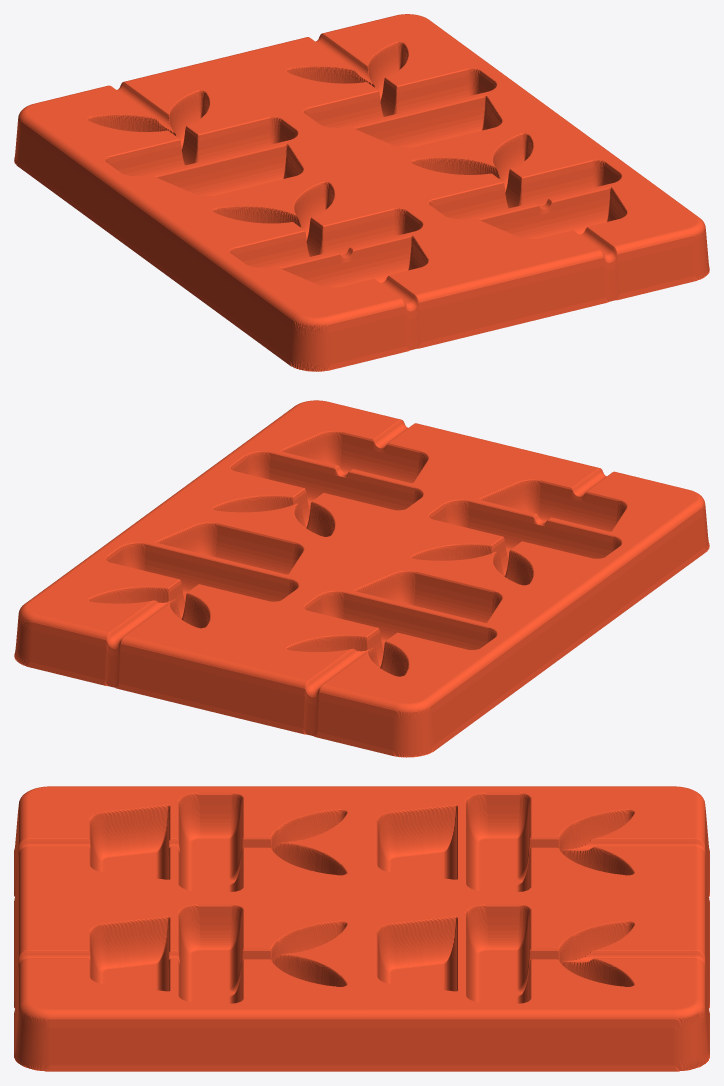
The model's file is mold.glb.
3 renders of one model, top to bottom at view 1: azimuth 30°, elevation 25°; view 2: azimuth 150°, elevation 25°; view 3: azimuth 270°, elevation 25°, orthographic. The views are drawn at different scales.
Parts seen in each view (by area): view 1: geometry_0; view 2: geometry_0; view 3: geometry_0.
Boxes of the visible parts, <box> form: geometry_0: <box>14,14,709,371</box>; geometry_0: <box>14,400,709,757</box>; geometry_0: <box>14,786,709,1071</box>.
Bounding box in the file's own units: 0.138 × 0.0155 × 0.1735.
